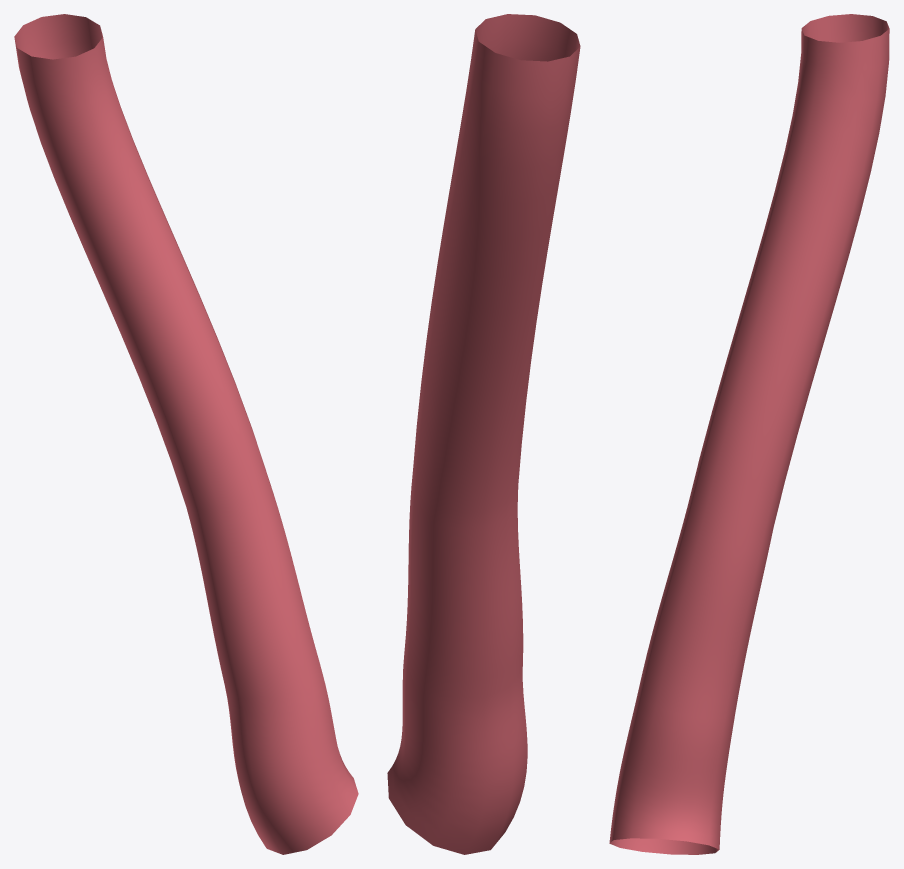
The picture shows the model from 3 angles, left to right: view 1: azimuth 30°, elevation 25°; view 2: azimuth 150°, elevation 25°; view 3: azimuth 270°, elevation 25°; orthographic projection. The views are drawn at different scales.
Visible parts, largest first — view 1: ZA_c81aa8c7691f2b83; view 2: ZA_c81aa8c7691f2b83; view 3: ZA_c81aa8c7691f2b83.
Boxes of the visible parts, box(x1,y1,x2,y2) form: ZA_c81aa8c7691f2b83: box(14, 14, 358, 854); ZA_c81aa8c7691f2b83: box(387, 14, 580, 854); ZA_c81aa8c7691f2b83: box(609, 14, 889, 854).
Size of the model in its own units: 0.0246 by 0.0767 by 0.0252.
